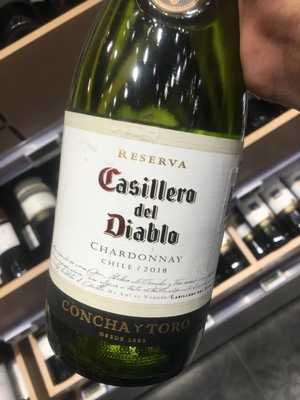casillero del diablo chardonnay: (35, 46, 242, 390)
